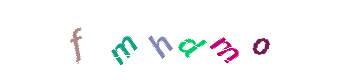0: (221, 0, 301, 80)
D: (129, 0, 209, 80)
F: (96, 0, 176, 80)
H: (119, 0, 199, 80)
M: (114, 0, 194, 80), (185, 0, 265, 80)
